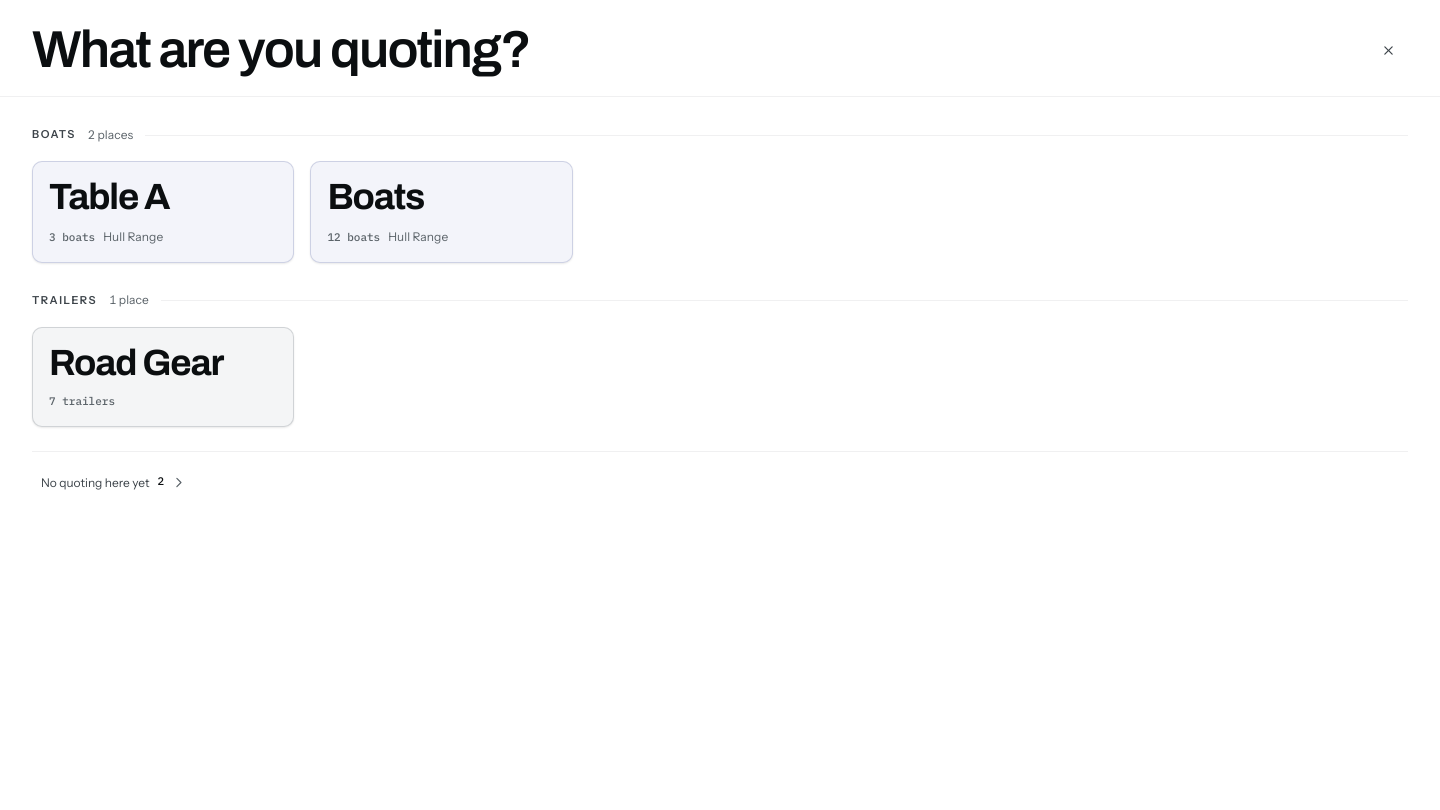
Test: the picker grid — picking a place › opens that place, and only that place
Click the button with aria-label "Table A, 3 boats".
click(163, 212)  # box [32,161,294,263]
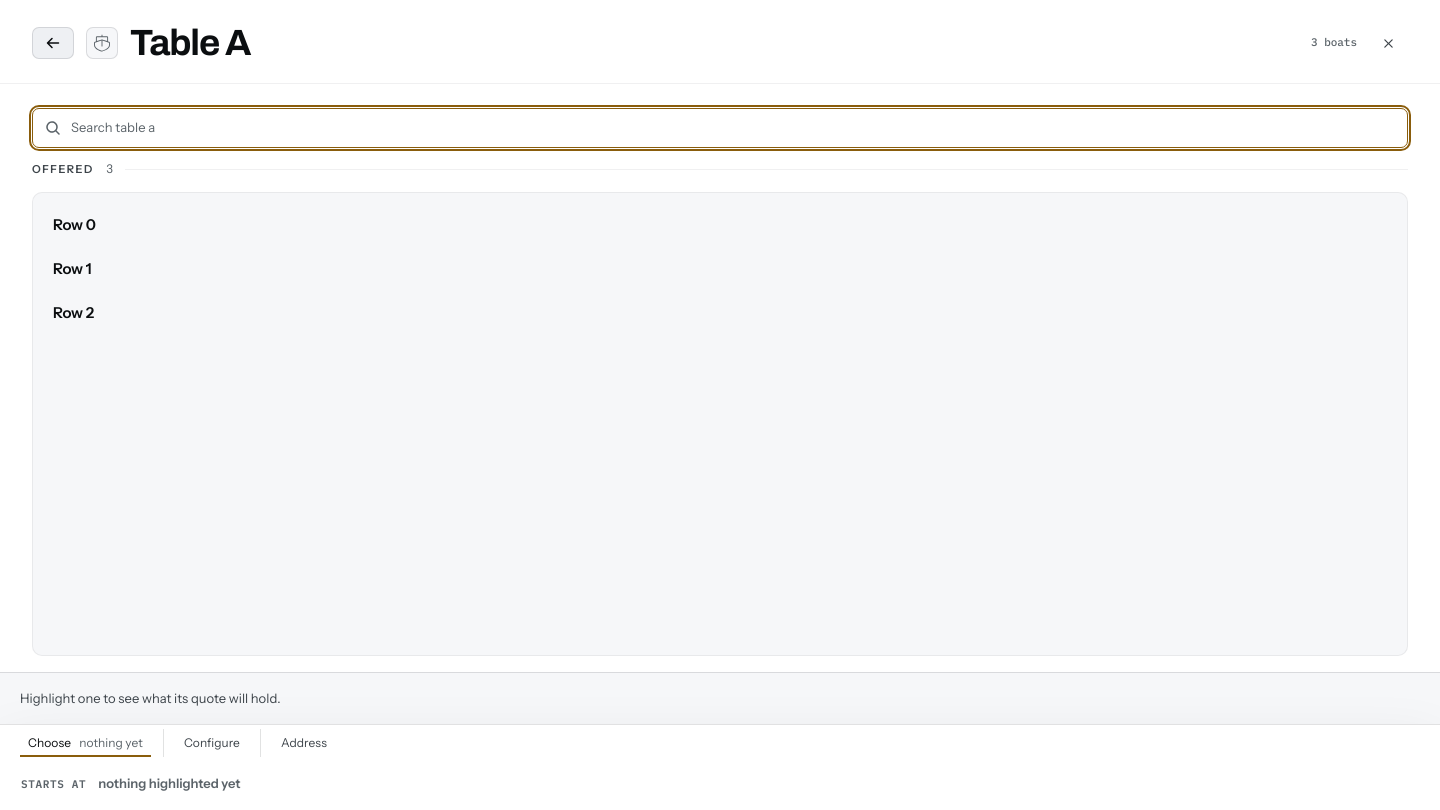
Check: the text "3 boats" is shown, box [1311,35,1357,51]
Check: the heading "Table A" is shown, box [130,23,250,63]
Check: the button named "Back to the modules" is shown, box [32,27,74,59]
